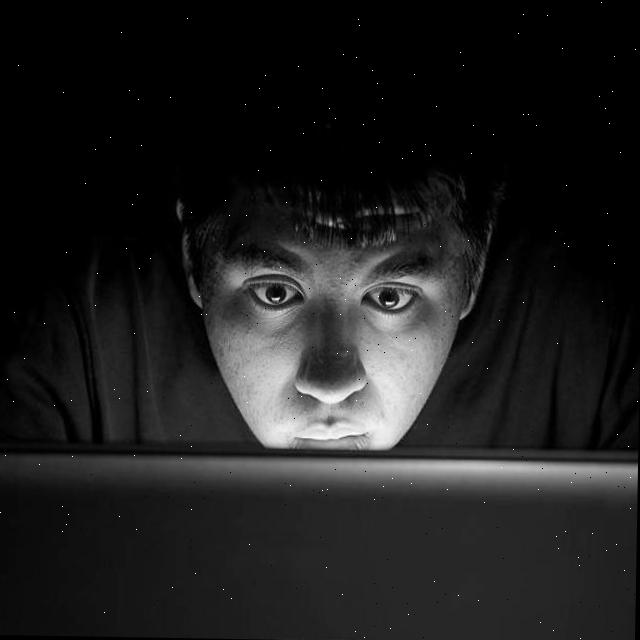Surprised: (186, 190, 464, 452)
